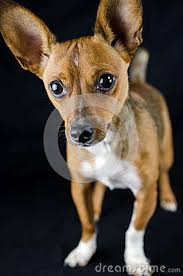chihuahua: (1, 2, 181, 276)
